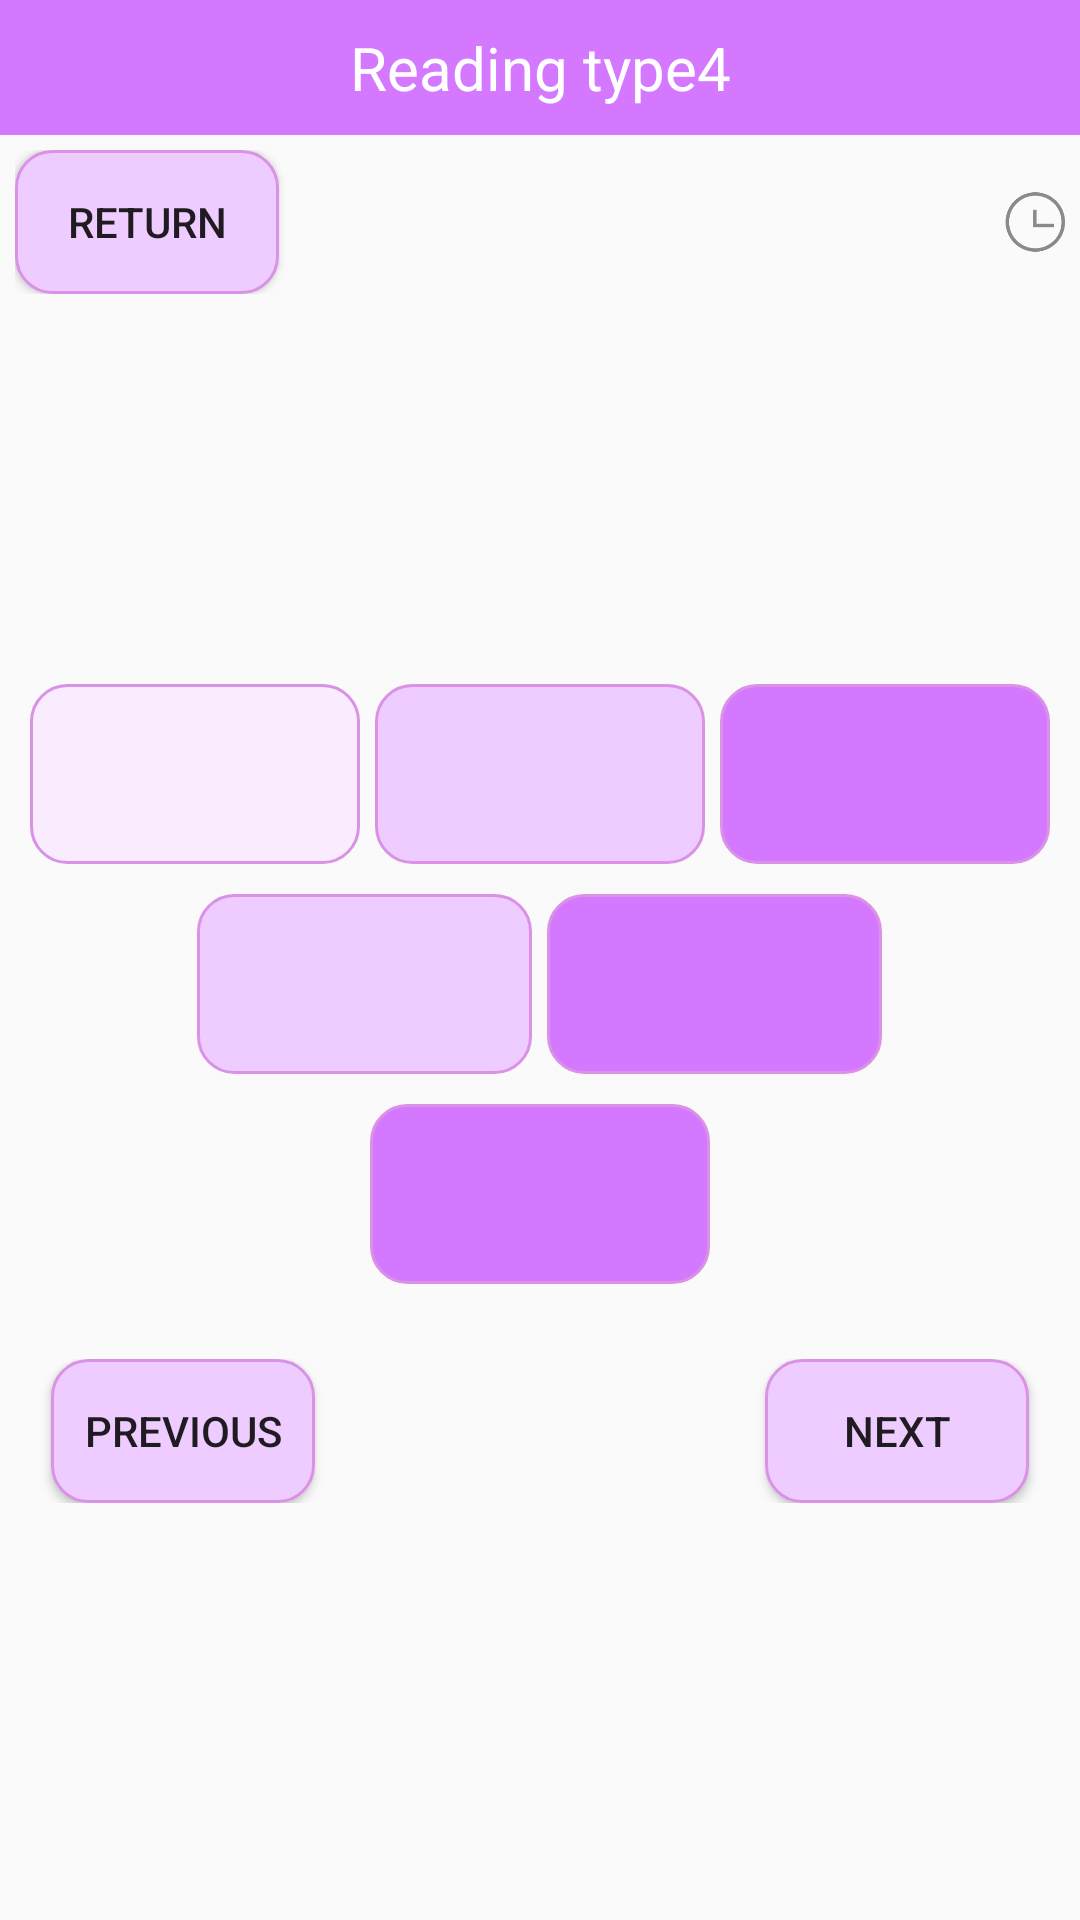

Icons on this 1080w x 1920h Android screen, each with its box as (x1, y1, x2, y2):
time: (1005, 192, 1065, 252)
